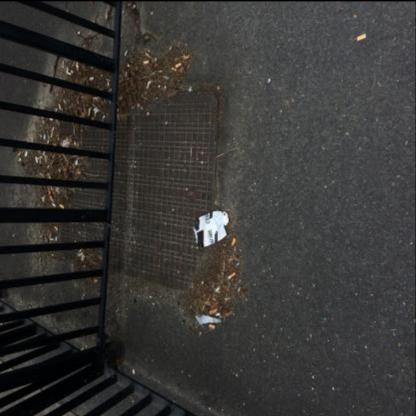Can: (194, 210, 230, 248)
Cigarette: (358, 32, 367, 40), (228, 270, 236, 278), (176, 61, 182, 67), (232, 236, 236, 244), (210, 322, 216, 327), (216, 284, 221, 290), (89, 106, 92, 115), (144, 59, 150, 63), (24, 149, 28, 155), (125, 49, 128, 55), (59, 102, 62, 108), (51, 194, 54, 200), (174, 66, 178, 70), (40, 154, 42, 162), (60, 204, 64, 208), (54, 226, 58, 230), (80, 250, 84, 254), (90, 75, 94, 78), (31, 136, 34, 140), (19, 149, 21, 155), (42, 195, 44, 201), (238, 286, 241, 290), (53, 202, 56, 206), (106, 12, 108, 18), (67, 72, 72, 74), (51, 131, 53, 136), (36, 156, 38, 161), (56, 235, 58, 240), (77, 64, 79, 68), (20, 156, 22, 160), (50, 237, 54, 239), (108, 80, 110, 84), (63, 59, 64, 65), (84, 44, 86, 47)
Pop tab: (223, 210, 228, 216)
Unlabeled litter: (196, 313, 222, 325)
